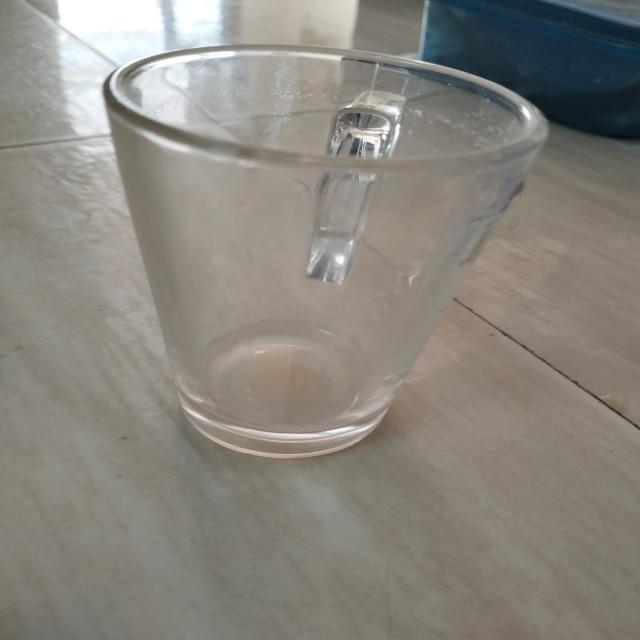glass-VX4N: (98, 46, 550, 461)
